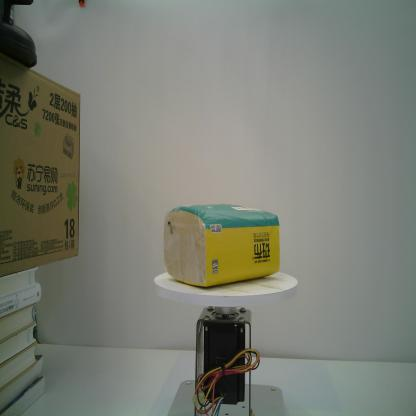Tissue: (162, 202, 281, 290)
